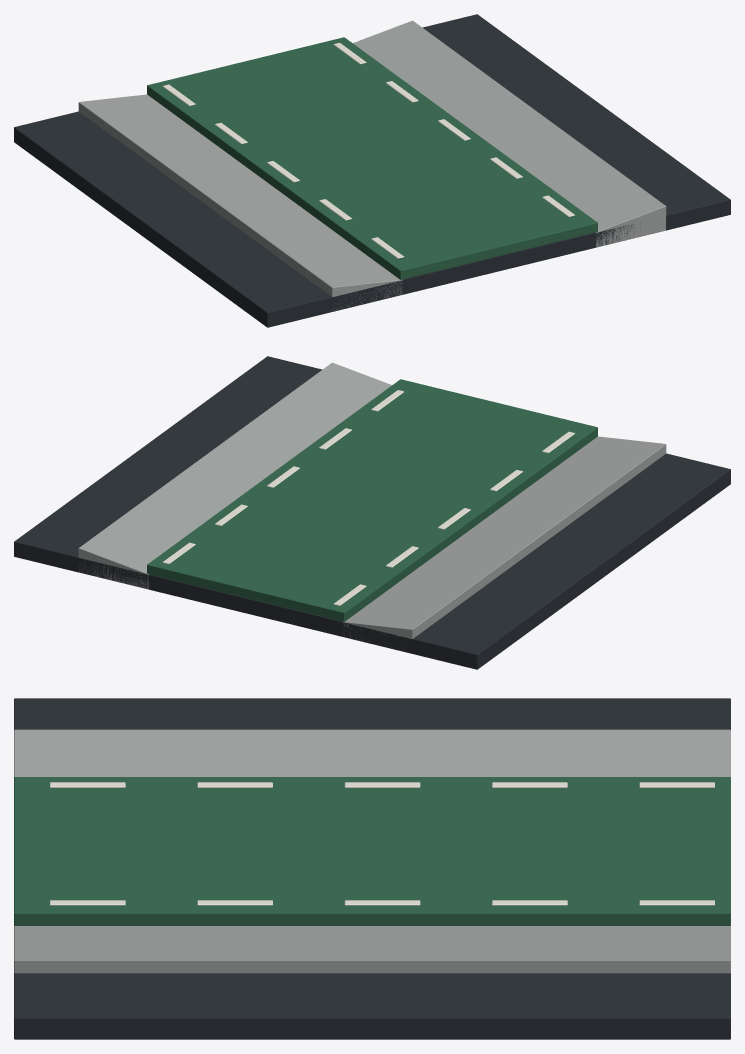
Rendered from b13_cycletrack_driveway_crossing.glb.
The picture shows the model from 3 angles, top to bottom: view 1: azimuth 30°, elevation 25°; view 2: azimuth 150°, elevation 25°; view 3: azimuth 270°, elevation 25°; orthographic projection. The views are drawn at different scales.
Visible parts, largest first — view 1: b13_cycletrack_driveway_crossing; view 2: b13_cycletrack_driveway_crossing; view 3: b13_cycletrack_driveway_crossing.
Boxes of the visible parts, bbox=[...] form: b13_cycletrack_driveway_crossing: bbox=[14, 14, 730, 327]; b13_cycletrack_driveway_crossing: bbox=[14, 356, 730, 669]; b13_cycletrack_driveway_crossing: bbox=[14, 698, 730, 1039].
Bounding box in the file's own units: 3.8 × 0.202 × 3.6.
